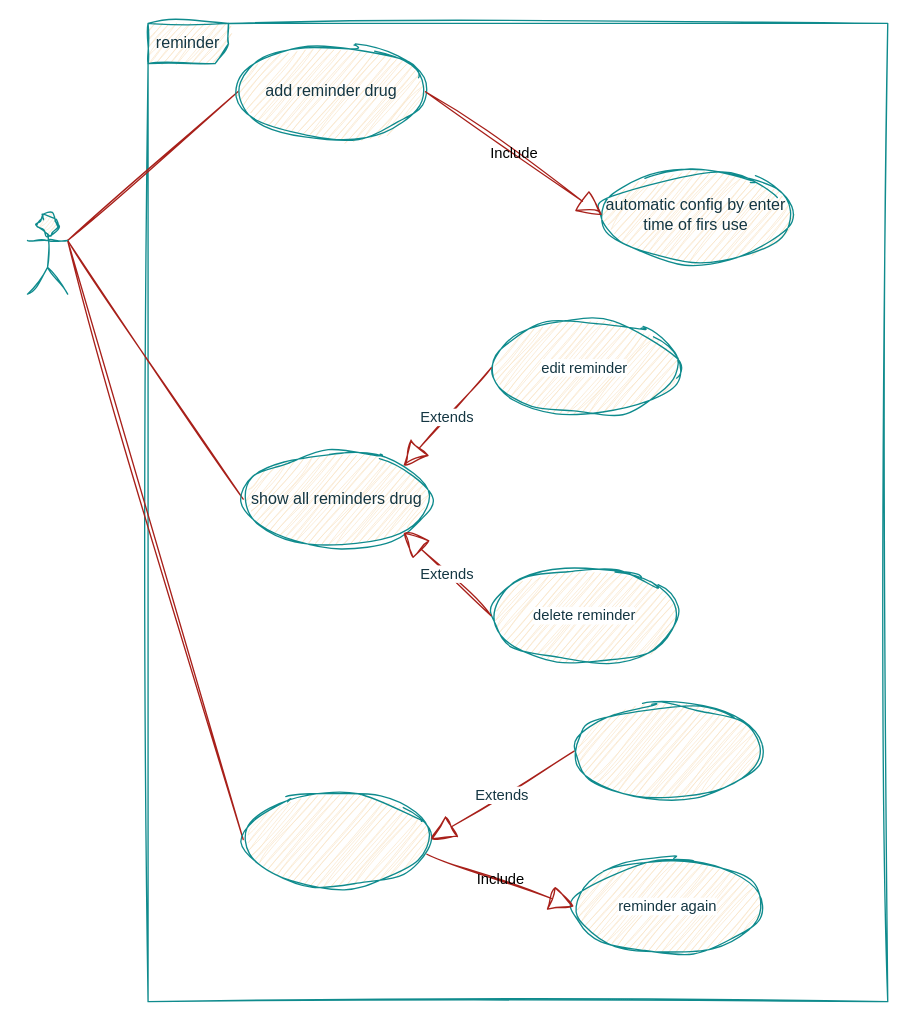
This 911x1025 diagram has some shape labels left out. Here are the shapes that lost their labels. From the top down, the centre of each, then its label:
At [47,253]: "patient".
At [667,750]: "accept(i ate)".
At [336,838]: "show notification for use drug".
